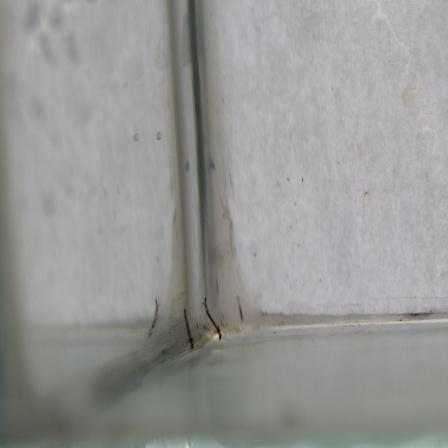Jentik-Nyamuk: (201, 292, 228, 341), (182, 306, 197, 352)
